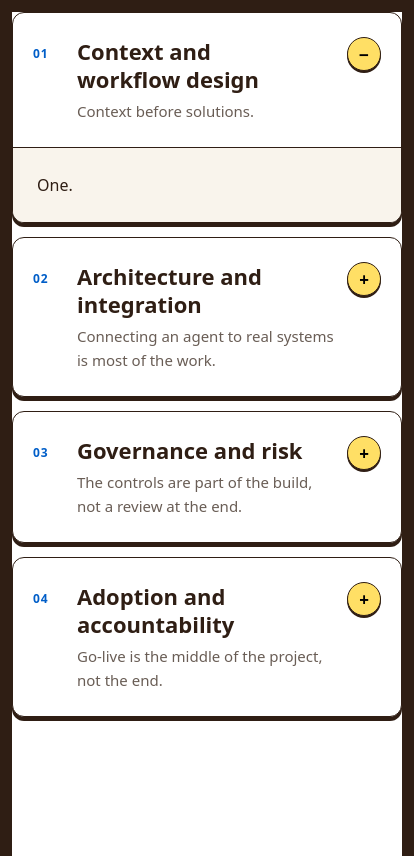
Test: SCN-007 — any number of disclosures can be open at once › closes one without closing the other
The image size is (414, 856).
Click the button "Architecture and integration": (170, 276) [13, 238, 401, 396]
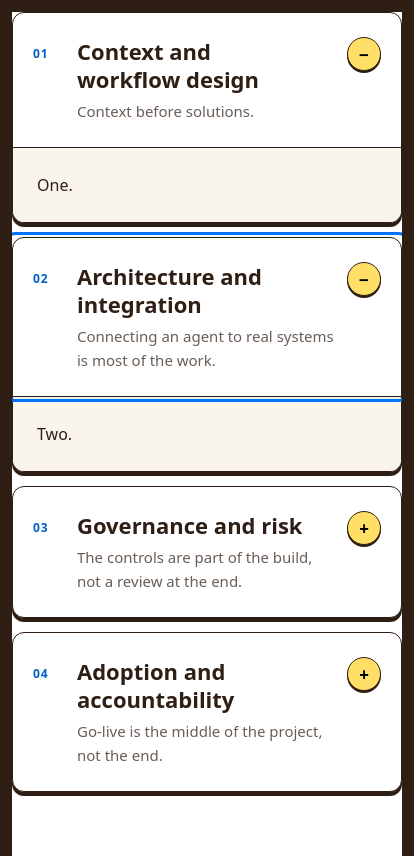
Click the button "01 Context and workflow design Context before solutions. −": (207, 80) [13, 13, 401, 147]
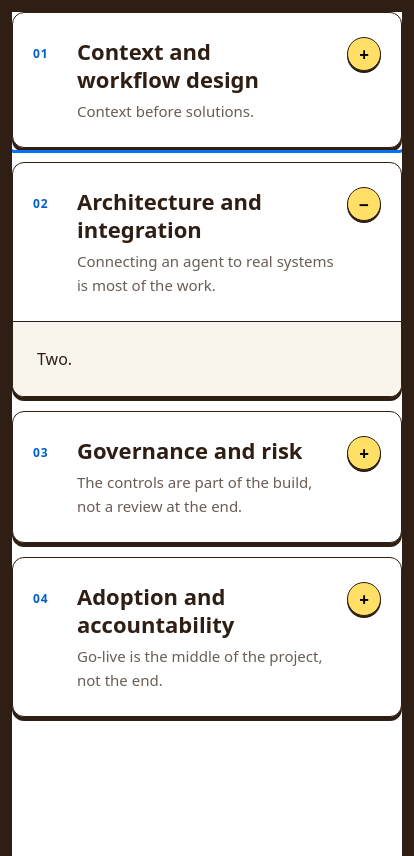
Check: the button "Architecture and integration" is expanded, box [13, 163, 401, 321]
Check: the button "01 Context and workflow design Context before solutions. +" is collapsed, box [13, 13, 401, 147]
